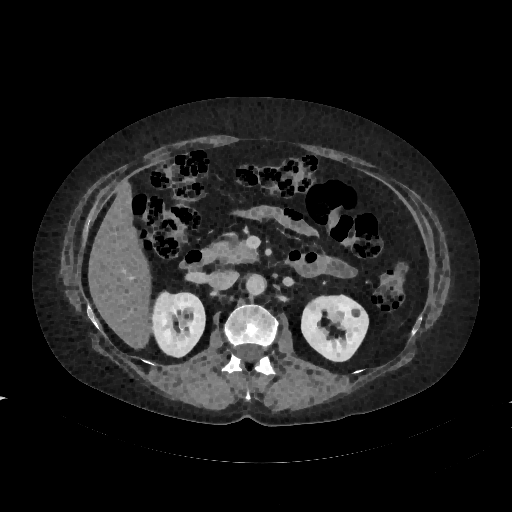Lesion: (349, 305, 360, 321)
